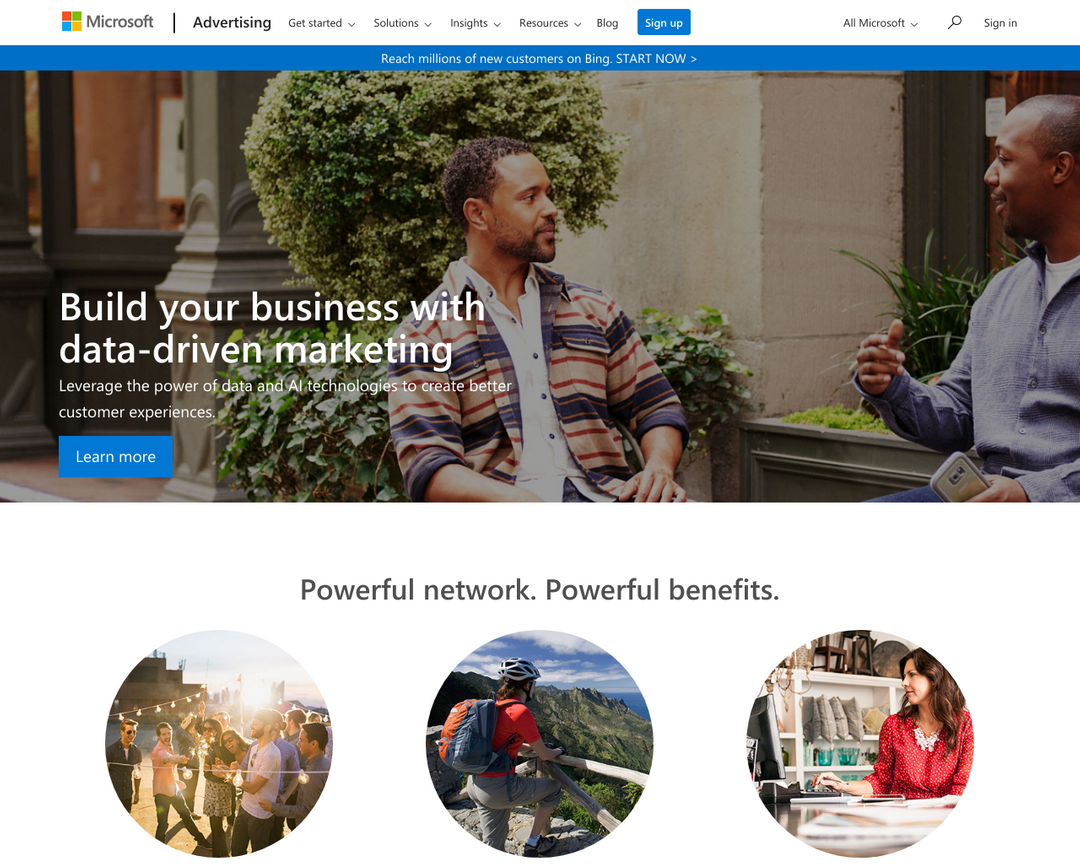Google: (309, 377, 329, 395)
